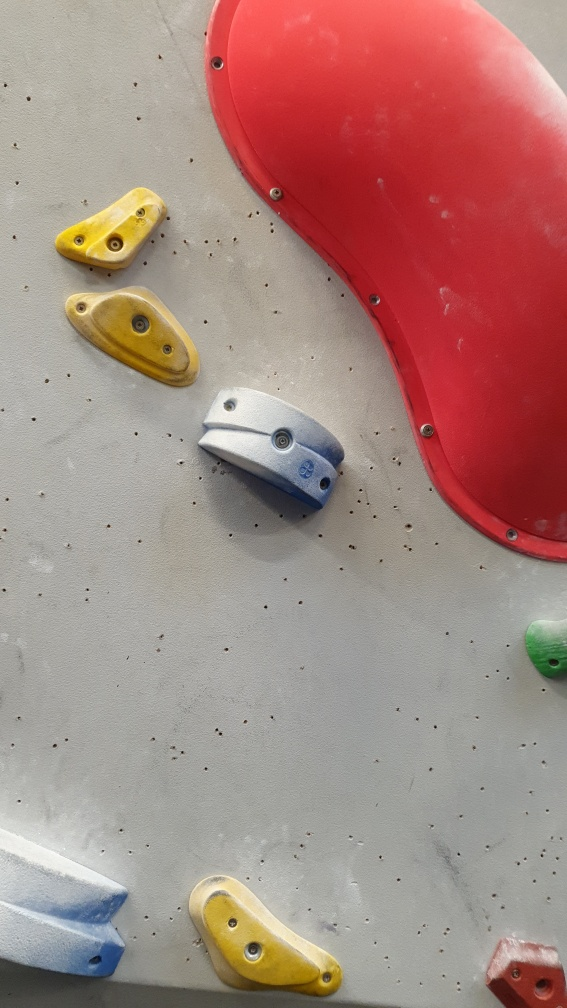Crimp: (205, 884, 321, 993), (89, 289, 193, 384), (79, 197, 165, 275)
Jug: (517, 612, 567, 687)
Pinch: (1, 822, 135, 988), (198, 384, 351, 507)
